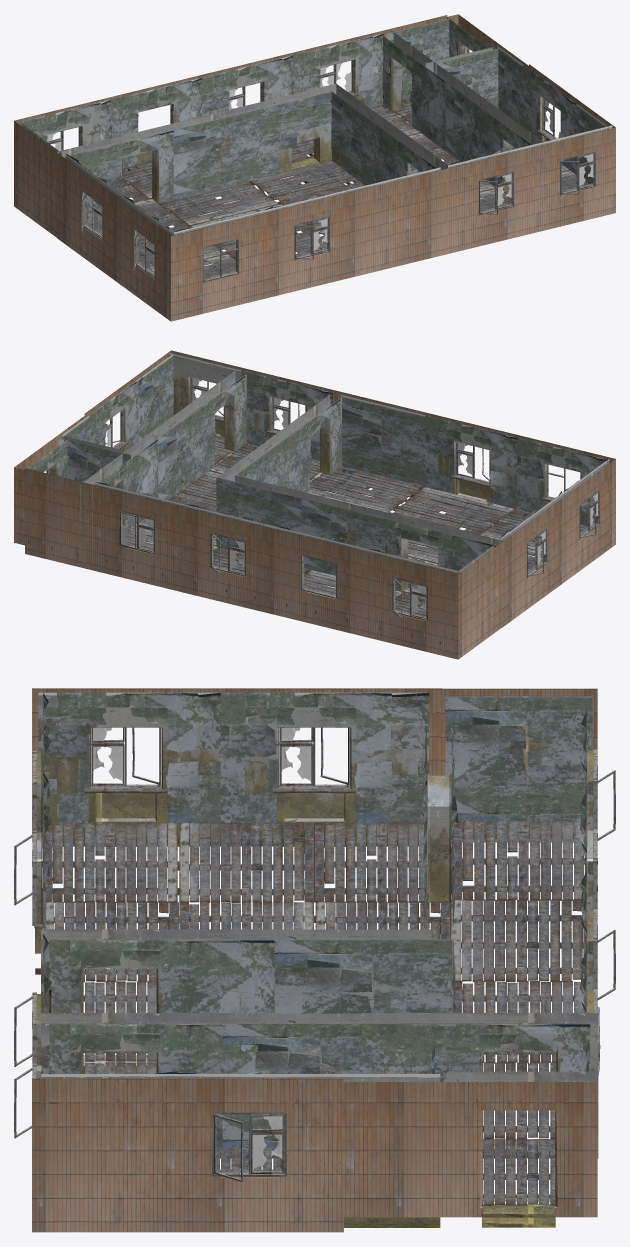
File: House_02.FBX
3 views of the same model, one above another, from view 1: azimuth 30°, elevation 25°; view 2: azimuth 150°, elevation 25°; view 3: azimuth 270°, elevation 25° (orthographic). The views are drawn at different scales.
Parts seen in each view (by area): view 1: Object054, Plane018, Plane039, Plane036, Box156; view 2: Object054, Plane018, Plane039, Plane036, Box156; view 3: Plane018, Plane036, Object054, Plane039, Box156.
Boxes of the visible parts, <box> form: Object054: <box>14,14,615,321</box>; Plane018: <box>19,18,604,257</box>; Plane039: <box>21,17,612,282</box>; Plane036: <box>47,60,595,282</box>; Box156: <box>47,62,593,269</box>; Object054: <box>14,350,615,659</box>; Plane018: <box>28,356,607,591</box>; Plane039: <box>24,352,609,621</box>; Plane036: <box>28,377,599,644</box>; Box156: <box>105,378,597,613</box>; Plane018: <box>37,692,592,1157</box>; Plane036: <box>14,727,615,1205</box>; Object054: <box>32,688,597,1232</box>; Plane039: <box>32,692,598,1227</box>; Box156: <box>93,727,599,1170</box>.
Bounding box in the file's own units: 16.15 × 2.85 × 10.07.
4 materials, 4 textured.
